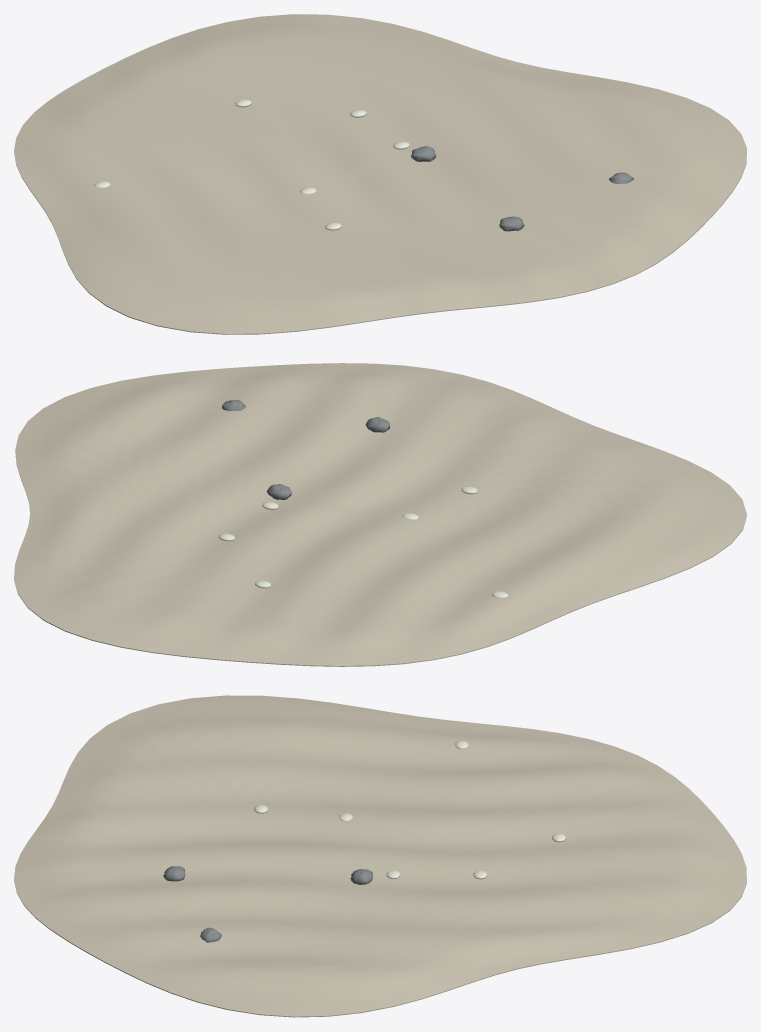
Rendered from sand_bed.glb.
3 views of the same model, one above another, from view 1: azimuth 30°, elevation 25°; view 2: azimuth 150°, elevation 25°; view 3: azimuth 270°, elevation 25° (orthographic).
Visible parts, largest first — view 1: sand-bed; view 2: sand-bed; view 3: sand-bed.
Part boxes in pixels (bbox=[...]): sand-bed: bbox=[14, 14, 746, 334]; sand-bed: bbox=[14, 363, 746, 666]; sand-bed: bbox=[14, 695, 746, 1017].
Bounding box in the file's own units: 8.43 × 0.1757 × 8.13.
